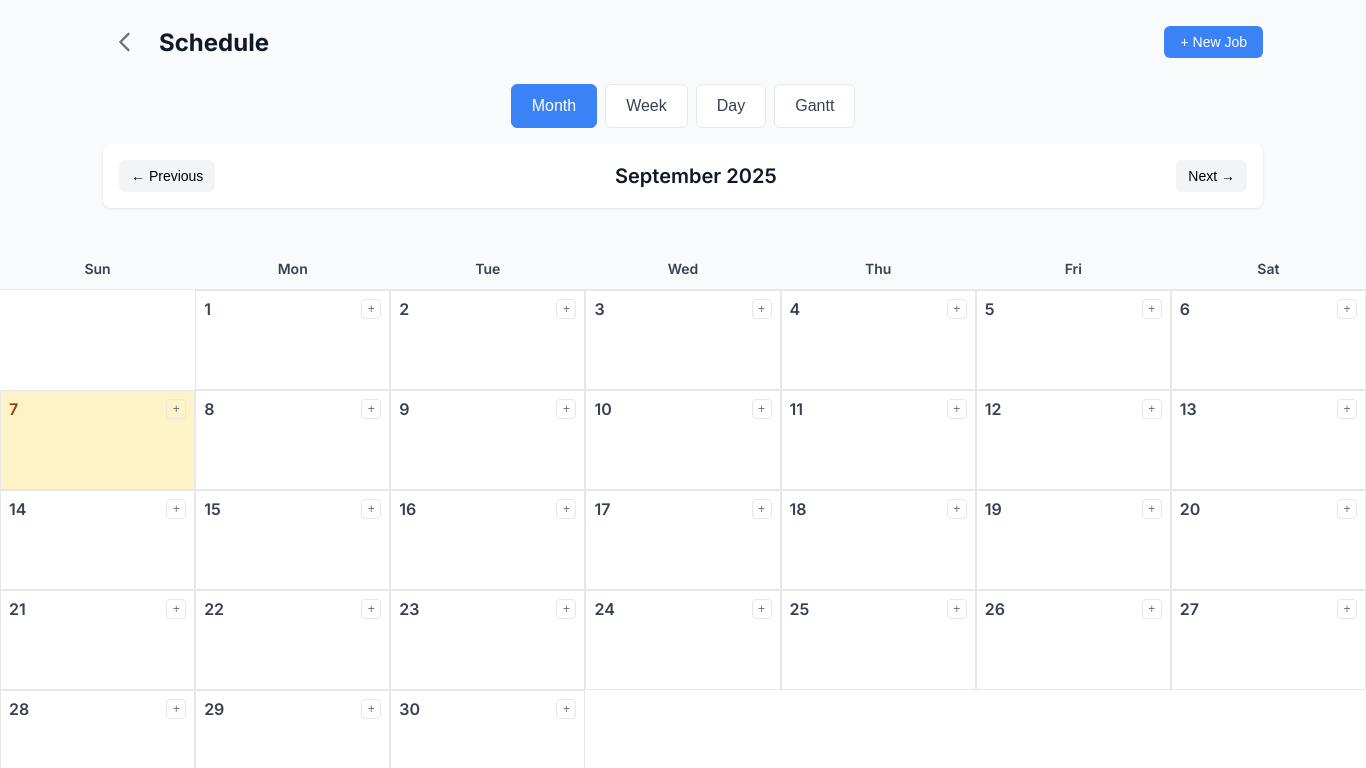
Scenario: Schedule Calendar Customer Dropdown › shows customer dropdown when creating new job
# Click the New Job button
Step 1. Click the button "+ New Job" → (1214, 42), box [1164,26,1263,58]
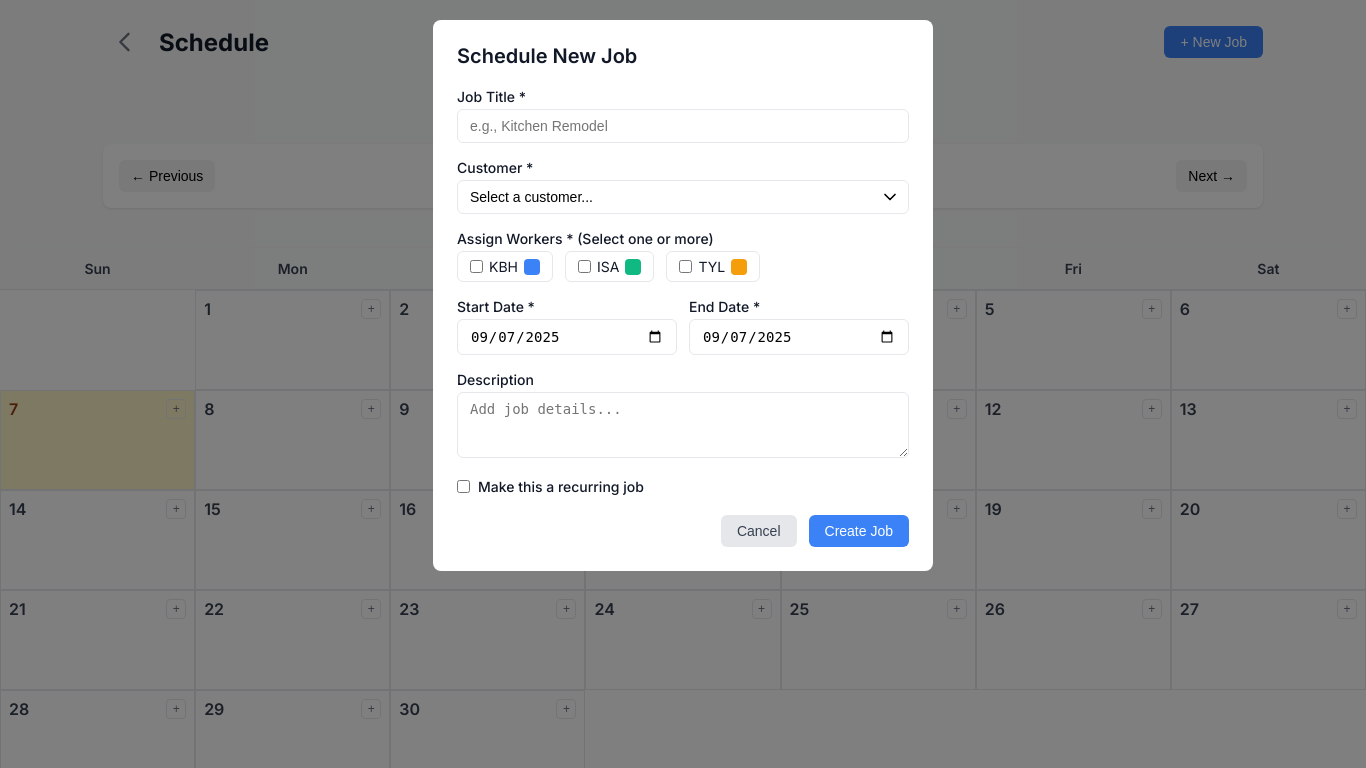
Expected: the heading "Schedule New Job" is shown, [457,44,637,68]
Expected: the dropdown is shown, [457,180,909,214]
